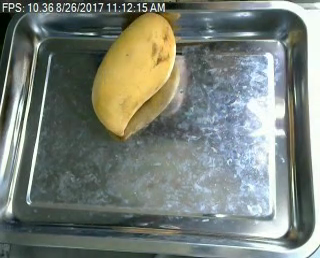Mango: (88, 12, 180, 140)
